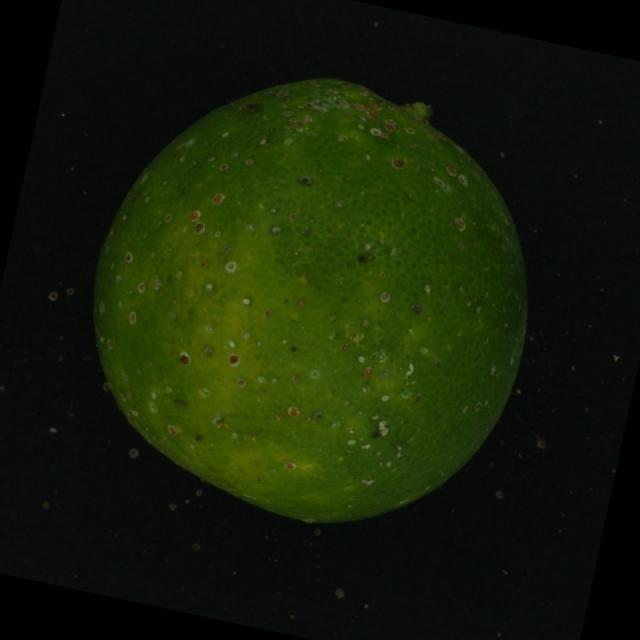grenning: (60, 56, 566, 551)
